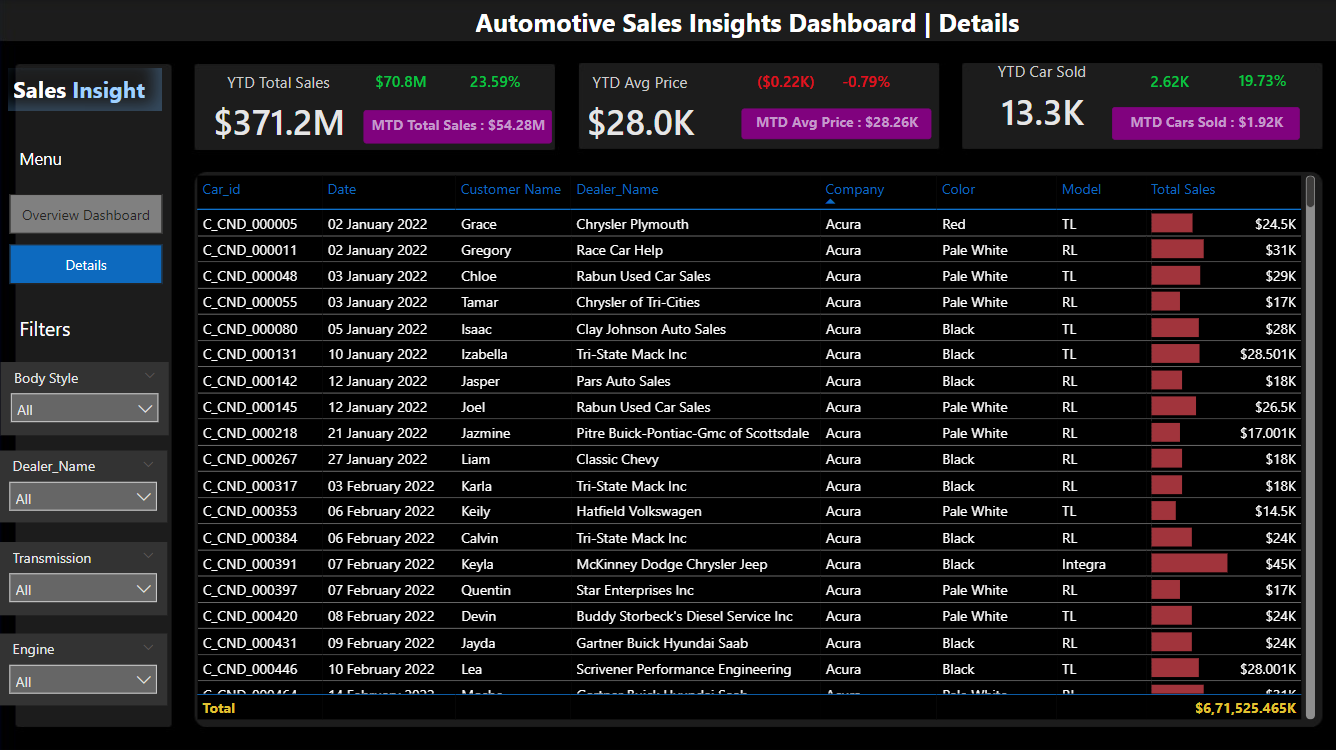

The page's visual inventory and layout, read from the dashboard file:
{"tool":"powerbi","page":{"name":"Details","canvas":[1280,720],"ordinal":1},"visuals":[{"type":"card","title":"YTD Total Sales","fields":{"Values":["car_data.YTD Total Sales"]},"box":[182.3,68.9,170.1,77],"z":0},{"type":"card","fields":{"Values":["car_data.Sales Difference"]},"box":[330,54.5,108.2,52.7],"z":1000},{"type":"card","fields":{"Values":["car_data.YOY Sales Growth"]},"box":[419.1,54.5,108.2,52.7],"z":2000},{"type":"card","fields":{"Values":["car_data.MTD KPI"]},"box":[348.3,106.6,179.7,32],"z":3000},{"type":"card","title":"YTD Avg Price","fields":{"Values":["car_data.YTD Avg Price"]},"box":[527.1,68.6,170,77.1],"z":4000},{"type":"card","fields":{"Values":["car_data.Avg Price Diff"]},"box":[696.7,54.7,109.4,52.7],"z":5000},{"type":"card","fields":{"Values":["car_data.YOY Avg Price Growth"]},"box":[773,52.5,108.2,54.1],"z":6000},{"type":"card","fields":{"Values":["car_data.MTD Avg Price KPI"]},"box":[709.1,104.5,181.2,29.6],"z":7000},{"type":"card","title":"YTD Car Sold","fields":{"Values":["car_data.YTD Car Sold"]},"box":[911.4,58.9,170.2,77.9],"z":8000},{"type":"card","fields":{"Values":["car_data.Cars Sold Diff"]},"box":[1062.8,54,109.8,52.3],"z":9000},{"type":"card","fields":{"Values":["car_data.YOY Car Sold Growth"]},"box":[1151.6,52.5,109.8,52.5],"z":10000},{"type":"card","fields":{"Values":["car_data.MTD Cars Sold KPI"]},"box":[1062.8,102.8,179.5,31.4],"z":11000},{"type":"textbox","box":[450.1,0,547.2,52.5],"z":12000},{"type":"slicer","fields":{"Values":["car_data.Body Style"]},"box":[1.6,346.8,160.7,70],"z":13000},{"type":"slicer","fields":{"Values":["car_data.Dealer_Name"]},"box":[0,431.1,160.7,68.4],"z":14000},{"type":"slicer","fields":{"Values":["car_data.Transmission"]},"box":[0,518.5,160.7,70],"z":15000},{"type":"slicer","fields":{"Values":["car_data.Engine"]},"box":[0,606,160.7,68.4],"z":16000},{"type":"textbox","box":[14.3,295.9,84.3,36.6],"z":17000},{"type":"tableEx","fields":{"Values":["car_data.Car_id","car_data.Date","car_data.Customer Name","car_data.Dealer_Name","car_data.Company","car_data.Color","car_data.Model","car_data.Price ($)"]},"box":[182.9,163.8,1078.4,529.7],"z":18000},{"type":"pageNavigator","box":[9.5,186.1,146.3,87.5],"z":19000},{"type":"textbox","box":[8,65.2,146.3,41.4],"z":20000},{"type":"textbox","box":[14.3,136.8,66.8,38.2],"z":21000}]}

Visuals, with their boxes in screenshot pixels (x1, y1, x2, y2), scaled from the page's 1280x720 canvas onto the 1336x750 screenshot:
"YTD Total Sales" card: left=190, top=72, right=368, bottom=152
card - car_data.Sales Difference: left=344, top=57, right=457, bottom=112
card - car_data.YOY Sales Growth: left=437, top=57, right=550, bottom=112
card - car_data.MTD KPI: left=364, top=111, right=551, bottom=144
"YTD Avg Price" card: left=550, top=71, right=728, bottom=152
card - car_data.Avg Price Diff: left=727, top=57, right=841, bottom=112
card - car_data.YOY Avg Price Growth: left=807, top=55, right=920, bottom=111
card - car_data.MTD Avg Price KPI: left=740, top=109, right=929, bottom=140
"YTD Car Sold" card: left=951, top=61, right=1129, bottom=143
card - car_data.Cars Sold Diff: left=1109, top=56, right=1224, bottom=111
card - car_data.YOY Car Sold Growth: left=1202, top=55, right=1317, bottom=109
card - car_data.MTD Cars Sold KPI: left=1109, top=107, right=1297, bottom=140
textbox: left=470, top=0, right=1041, bottom=55
slicer - car_data.Body Style: left=2, top=361, right=169, bottom=434
slicer - car_data.Dealer_Name: left=0, top=449, right=168, bottom=520
slicer - car_data.Transmission: left=0, top=540, right=168, bottom=613
slicer - car_data.Engine: left=0, top=631, right=168, bottom=702
textbox: left=15, top=308, right=103, bottom=346
tableEx - car_data.Car_id x car_data.Date: left=191, top=171, right=1316, bottom=722
pageNavigator: left=10, top=194, right=163, bottom=285
textbox: left=8, top=68, right=161, bottom=111
textbox: left=15, top=143, right=85, bottom=182
